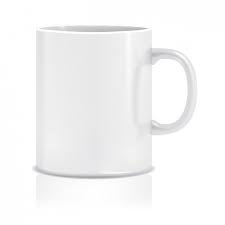cup: (32, 20, 199, 184)
